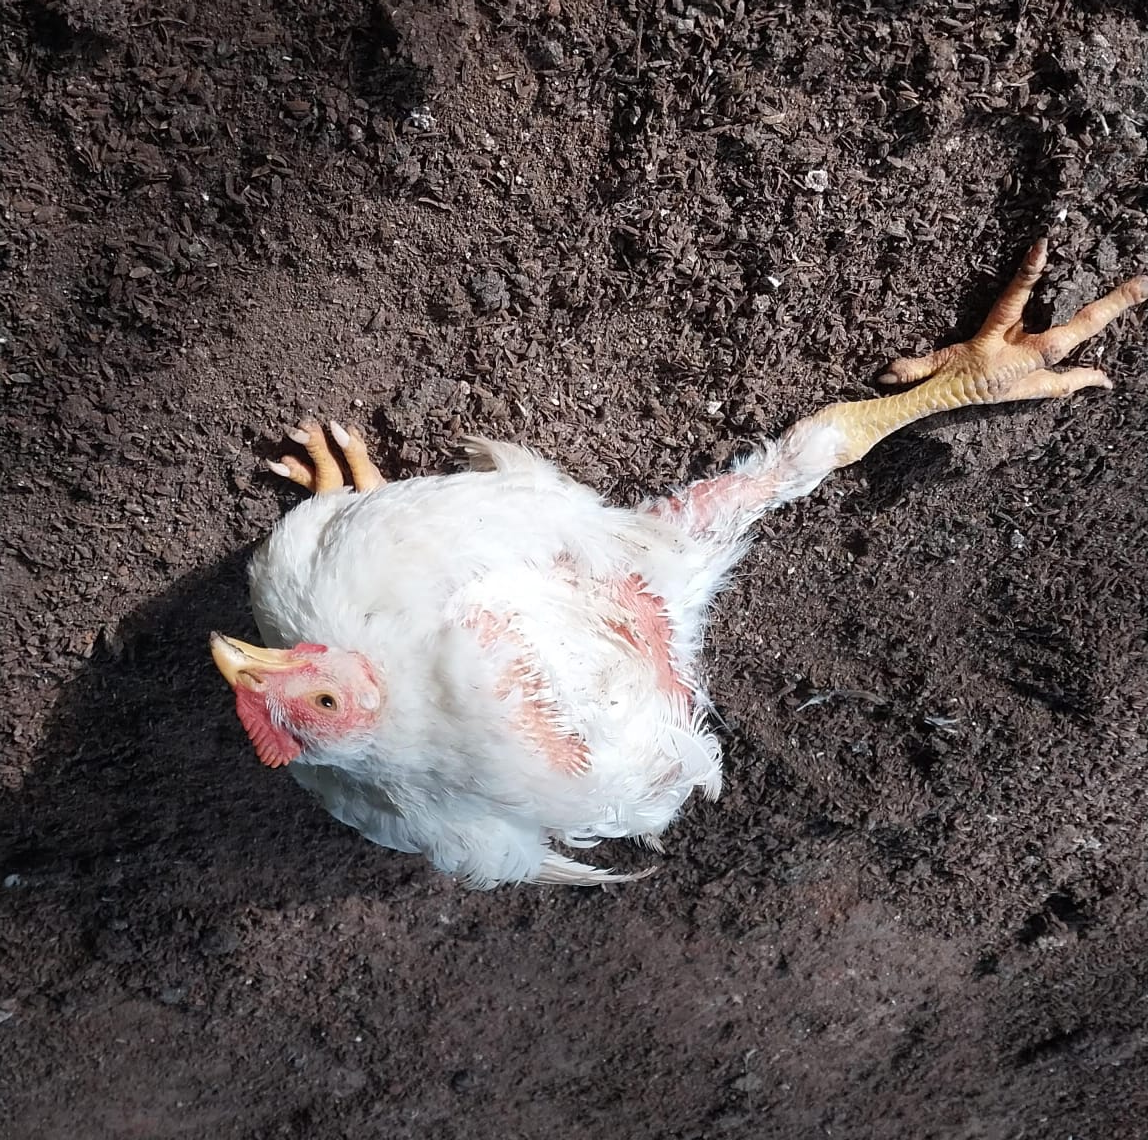Unhealthy: (183, 221, 1091, 888)
